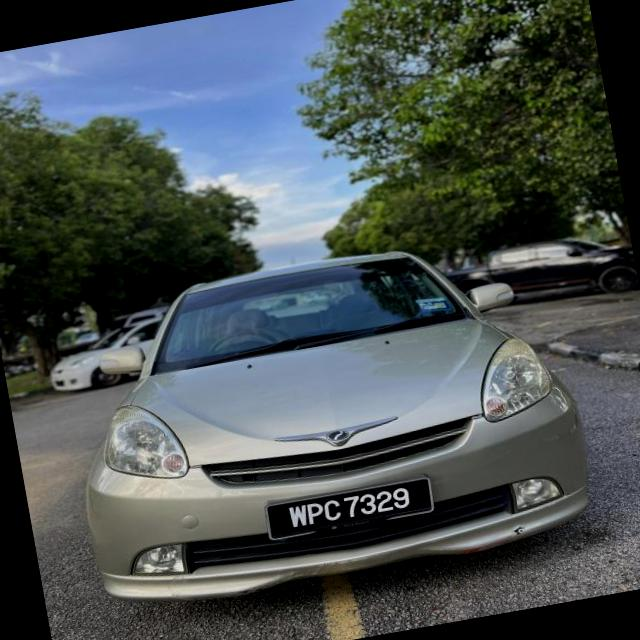PeroduaMyvi: (48, 218, 602, 620)
